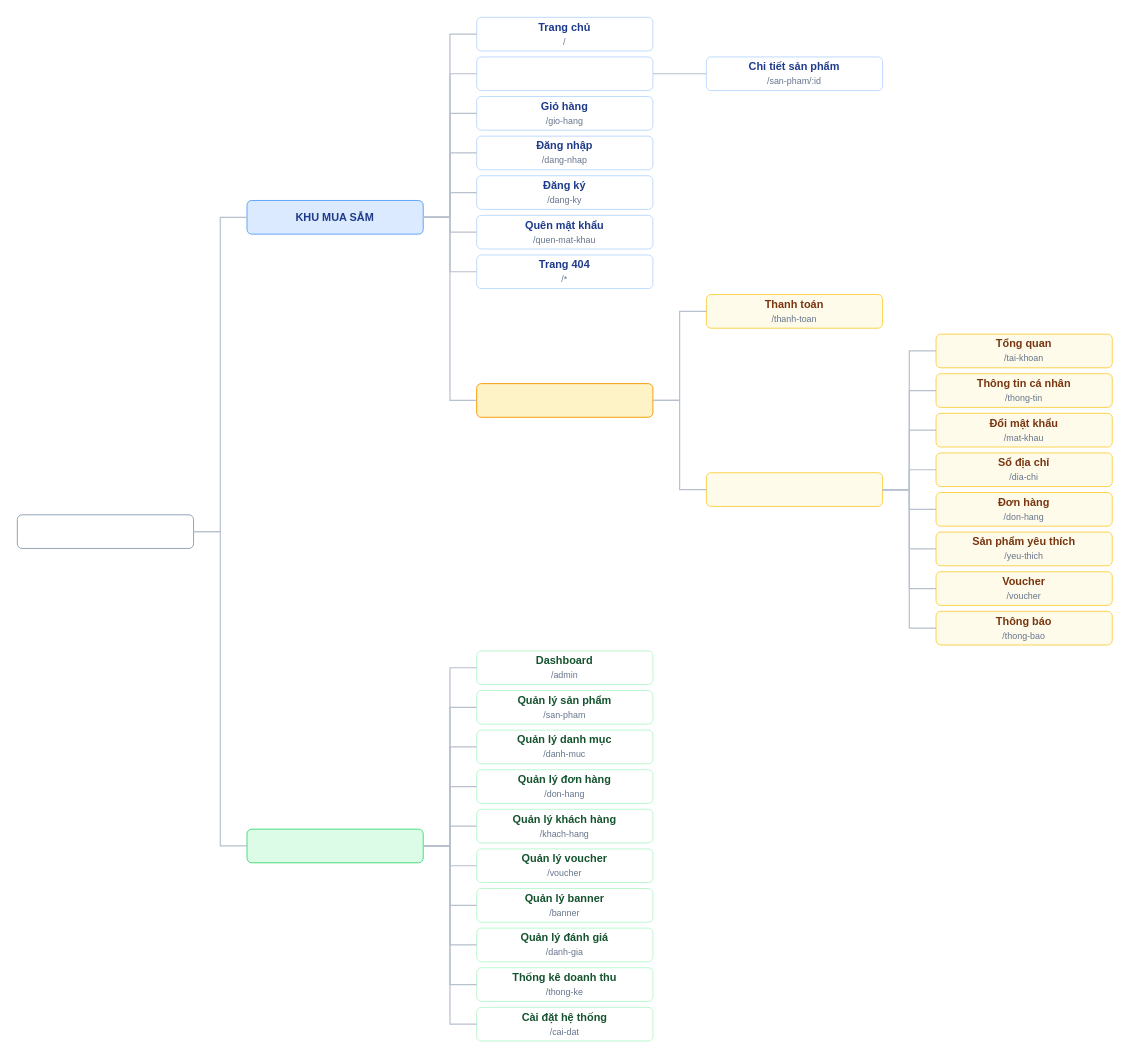
Some shapes in this 1130 by 1058 pixel diagram are drawn without their labels. Here are the shapes that lost their labels. From the top down, the centre of each, then its label:
At (x=564, y=73): "Danh mục sản phẩm /danh-muc".
At (x=564, y=400): "CẦN ĐĂNG NHẬP".
At (x=794, y=489): "Tài khoản /tai-khoan".
At (x=105, y=531): "Hoàng Nhà — Web bán hàng /".
At (x=334, y=845): "KHU QUẢN TRỊ /admin".
